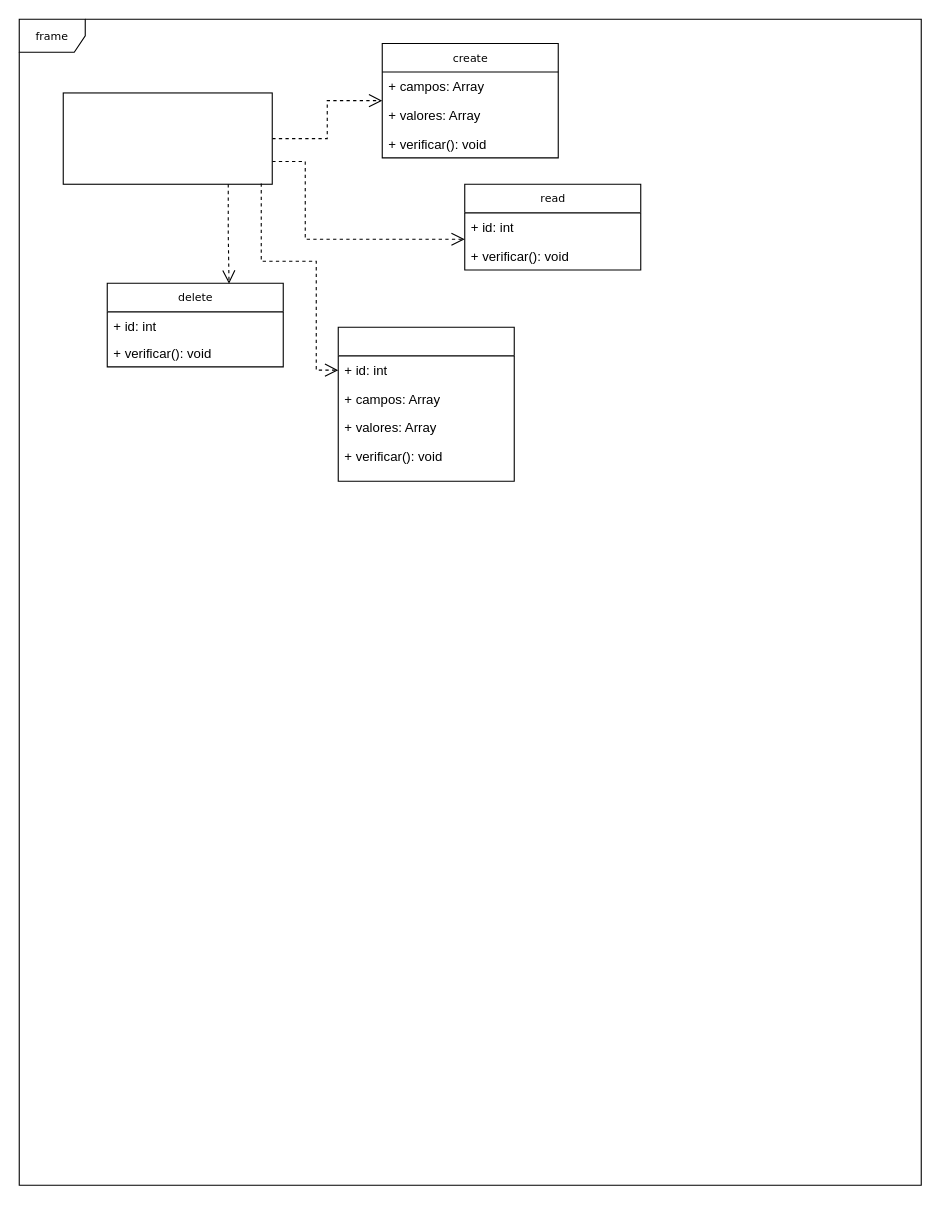
The diagram is 941 pixels wide and 1205 high, and some of its shapes have lost their labels. Here are the shapes that lost their labels. From the top down, the box of each, then its label:
(62, 92, 272, 184): <<Interface>> func + db: String + tb: String
(337, 326, 514, 481): update
